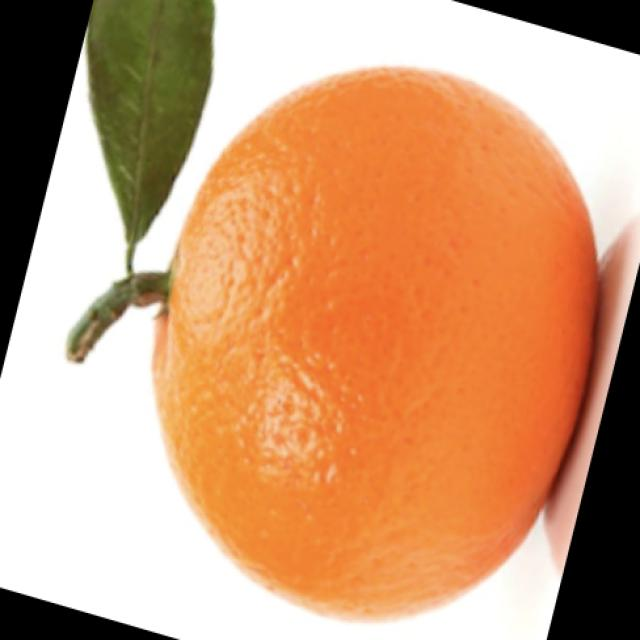orange: (82, 51, 597, 632)
